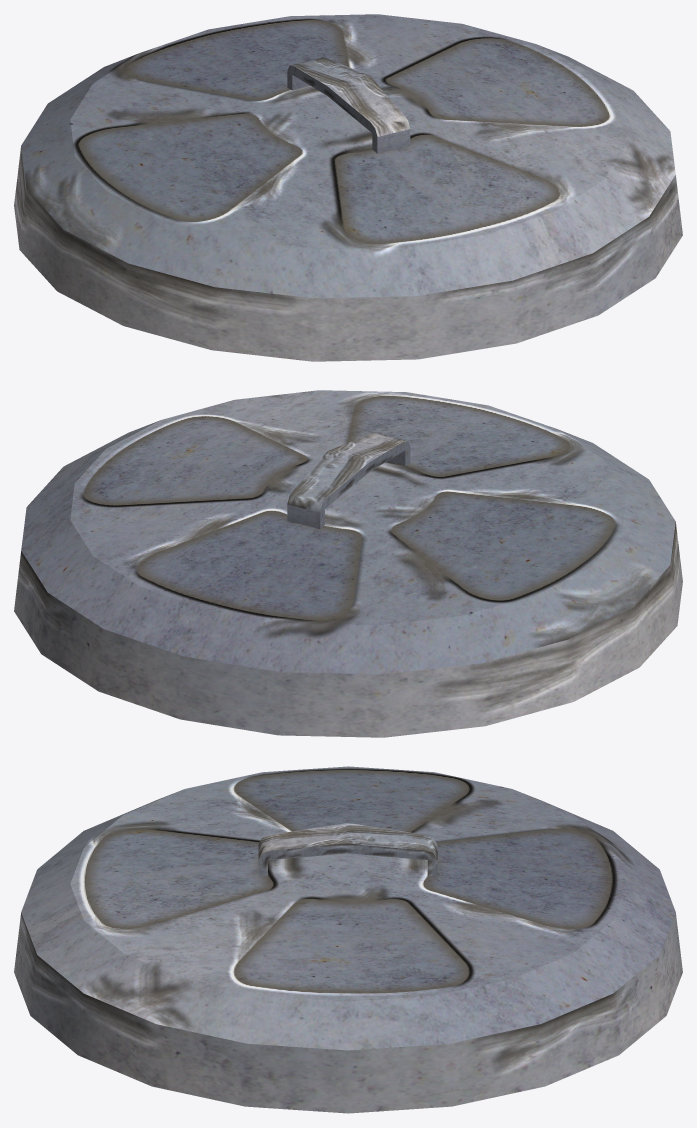
File: garbagecan_lid.fbx
The picture shows the model from 3 angles, top to bottom: view 1: azimuth 30°, elevation 25°; view 2: azimuth 150°, elevation 25°; view 3: azimuth 270°, elevation 25°; orthographic projection.
Visible parts, largest first — view 1: garbage_can_lid; view 2: garbage_can_lid; view 3: garbage_can_lid.
Part boxes in pixels (x1,y1,x2,y2): garbage_can_lid: (14,14,682,361); garbage_can_lid: (14,390,682,737); garbage_can_lid: (14,766,682,1113).
Size of the model in its own units: 0.8505 by 0.1948 by 0.8505.
